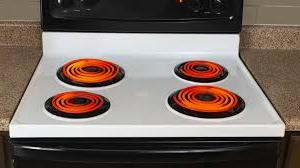controlled_fire: (53, 56, 122, 120), (172, 58, 225, 120)
